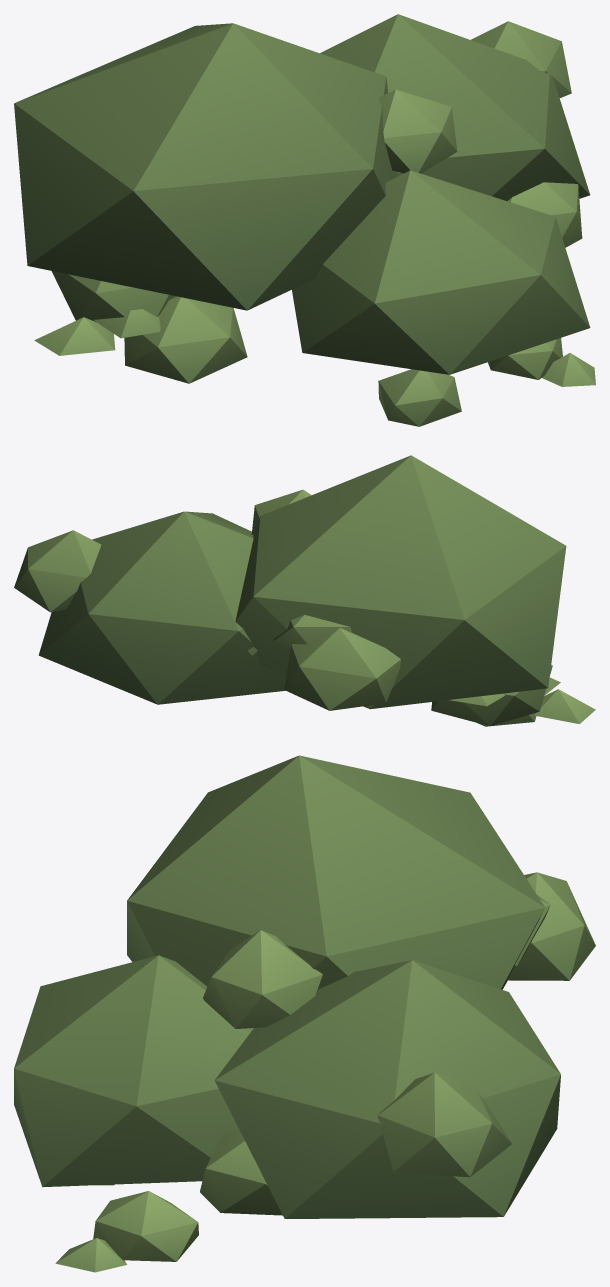
File: env_bush_large_01.glb
The picture shows the model from 3 angles, top to bottom: view 1: azimuth 30°, elevation 25°; view 2: azimuth 150°, elevation 25°; view 3: azimuth 270°, elevation 25°; orthographic projection. The views are drawn at different scales.
Visible parts, largest first — view 1: bush_large_01; view 2: bush_large_01; view 3: bush_large_01.
Part boxes in pixels (x1,y1,x2,y2): bush_large_01: (14, 14, 595, 426); bush_large_01: (14, 455, 595, 726); bush_large_01: (14, 755, 595, 1272).
Size of the model in its own units: 1.12 by 0.6374 by 0.8736.
